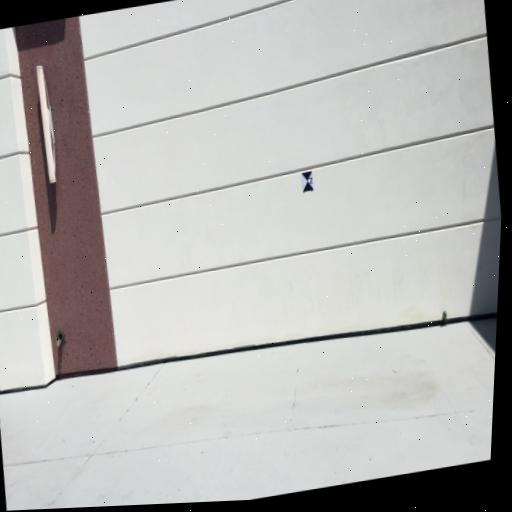target7: (300, 170, 315, 192)
